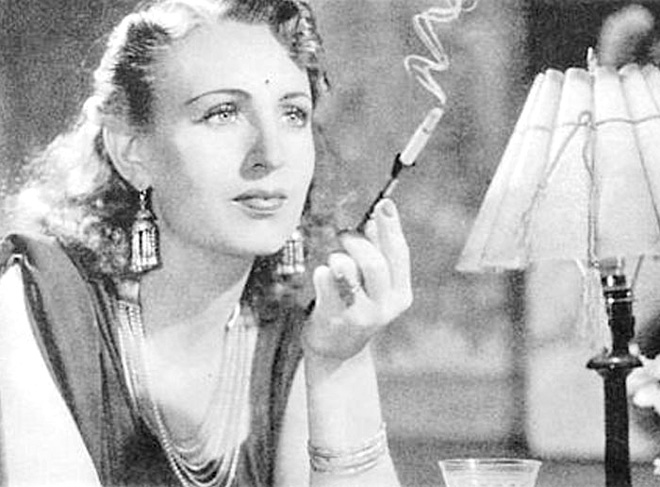cigarette: (380, 83, 477, 190)
